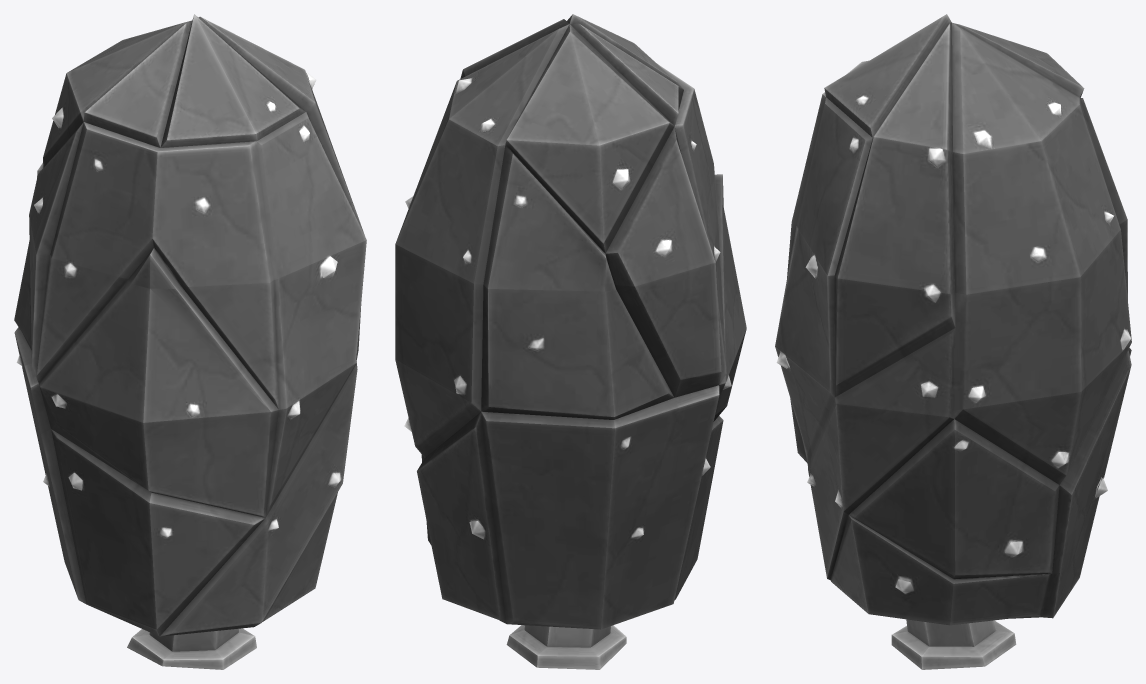
Rendered from obj_bush02_alt.gltf.
The picture shows the model from 3 angles, left to right: view 1: azimuth 30°, elevation 25°; view 2: azimuth 150°, elevation 25°; view 3: azimuth 270°, elevation 25°; orthographic projection.
Visible parts, largest first — view 1: obj_bush02_alt; view 2: obj_bush02_alt; view 3: obj_bush02_alt.
Boxes of the visible parts, x1=… form: obj_bush02_alt: x1=14, y1=14, x2=366, y2=669; obj_bush02_alt: x1=395, y1=14, x2=746, y2=669; obj_bush02_alt: x1=775, y1=14, x2=1131, y2=669.
Size of what is drawn, in the model's own units: 1.2 by 2.35 by 1.2.
1 material, 1 textured.
